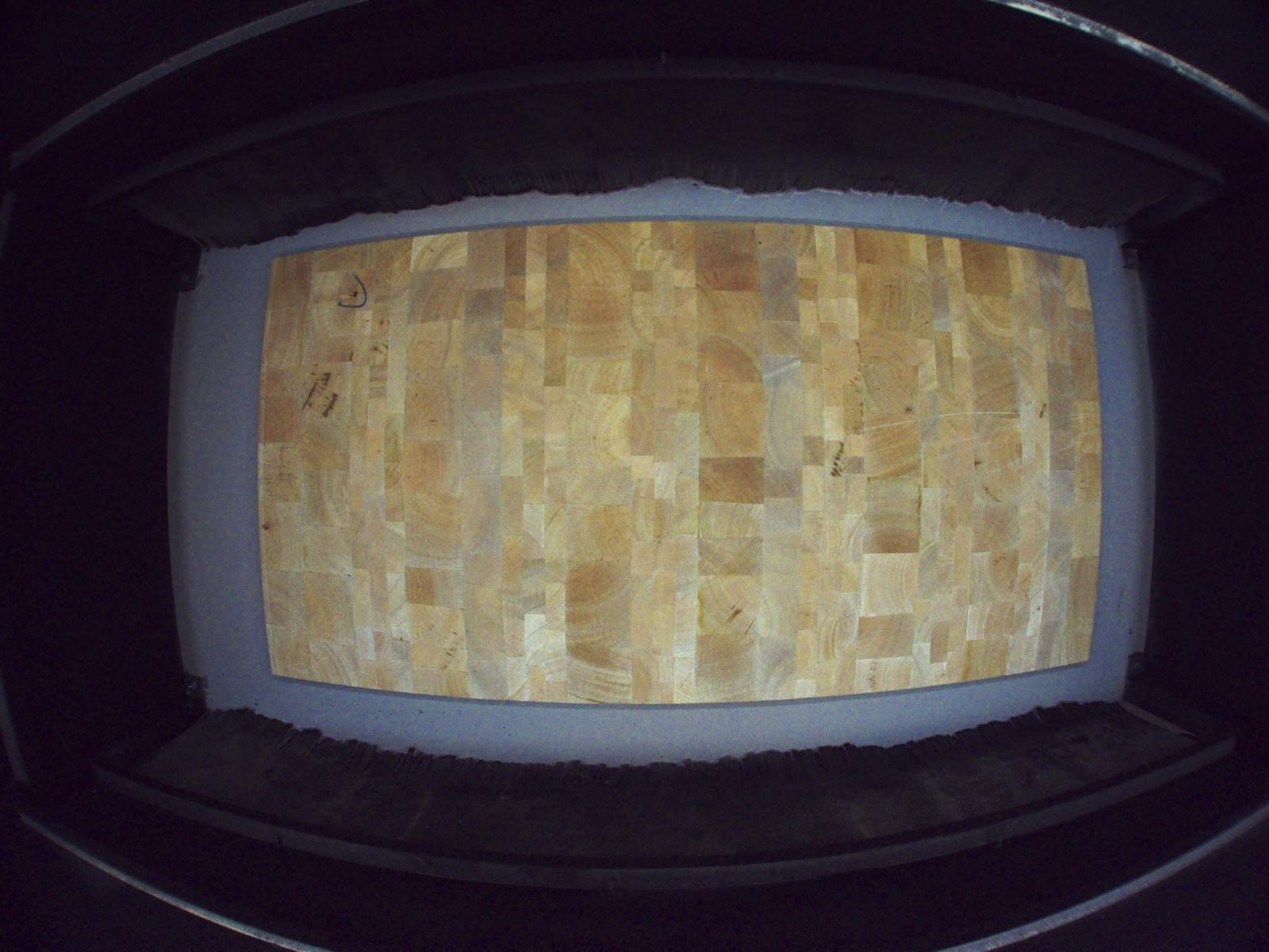nudillo: (341, 288, 360, 299)
